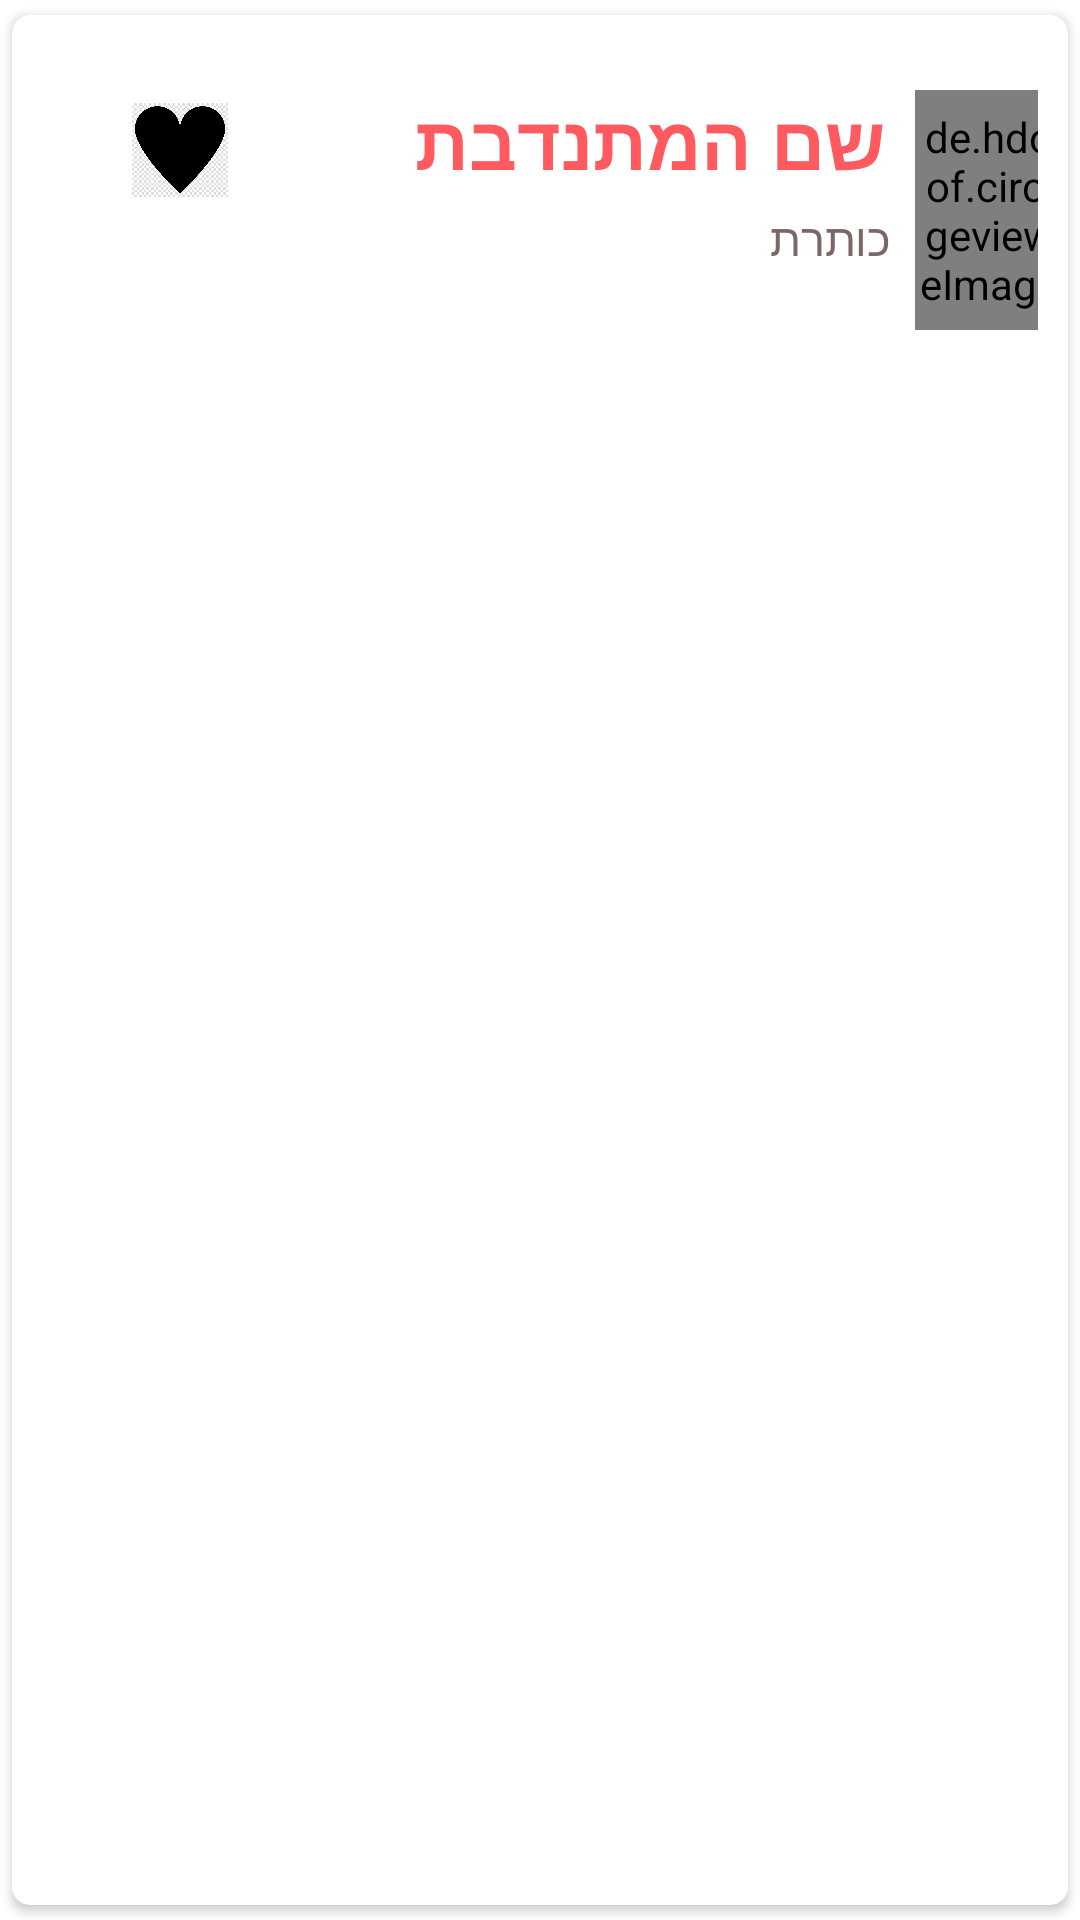

Icon click points for this 1080×1920 phone screenshot, format (x=x, y=y):
like picture full: (x=180, y=150)
